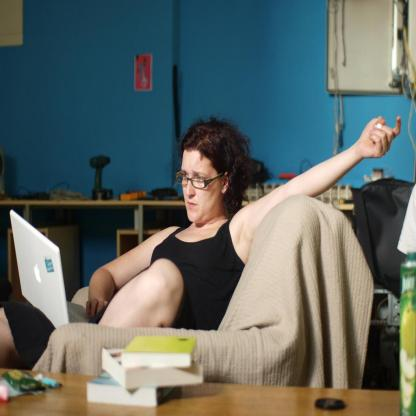board: (9, 208, 91, 330), (399, 250, 416, 416), (90, 154, 113, 199)
